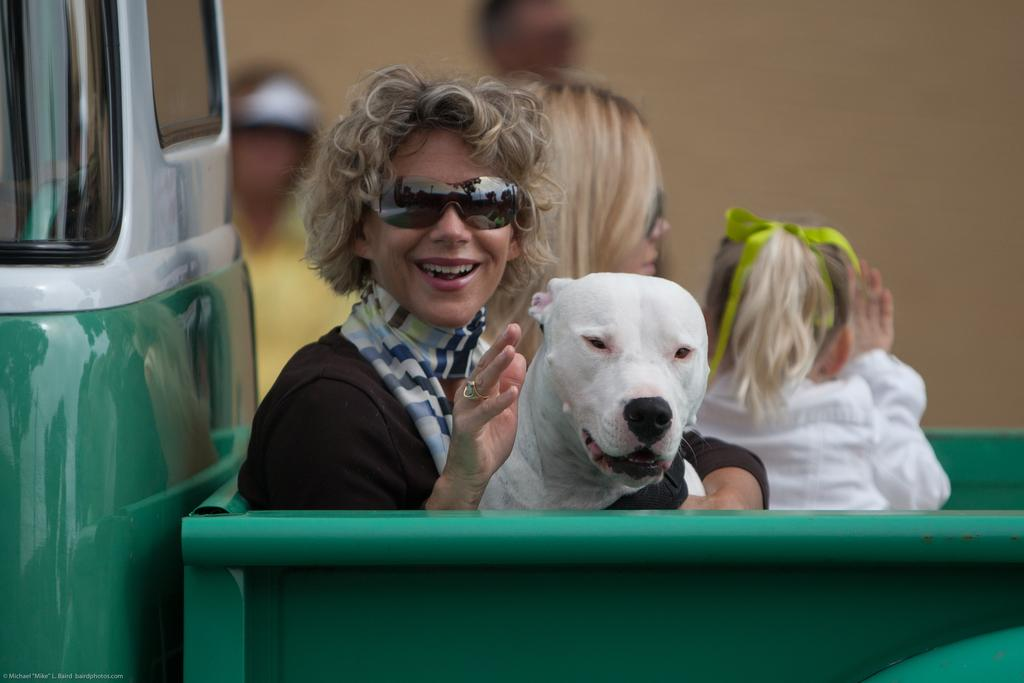Sem Máscara: (362, 119, 508, 322), (626, 169, 670, 273)
